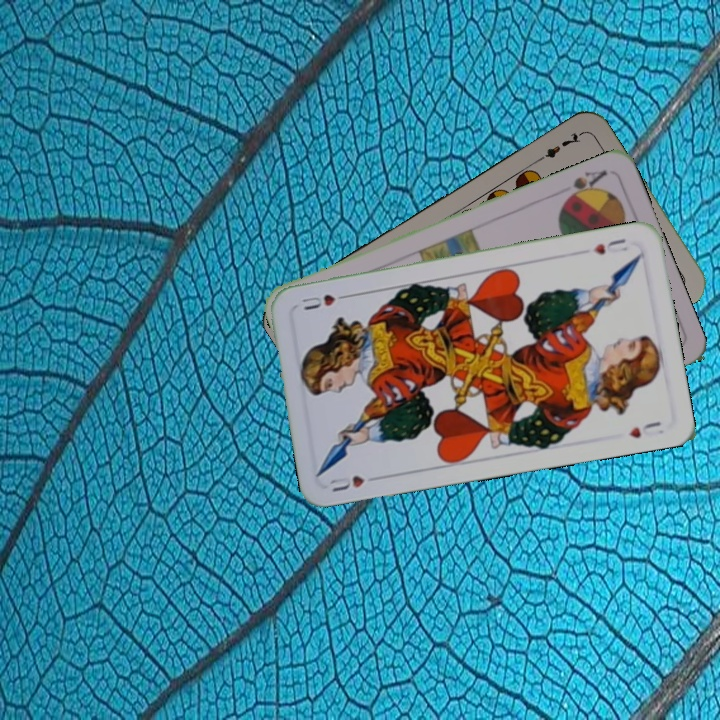E7: (531, 128, 584, 166)
HU: (326, 471, 383, 495), (589, 234, 630, 257)
SA: (559, 165, 610, 206)
